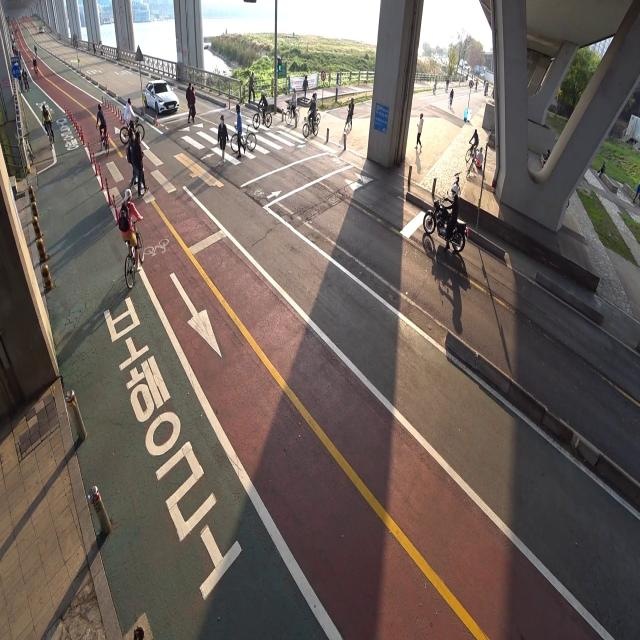Car: (141, 69, 183, 123)
Motorcycle: (422, 182, 468, 255)
